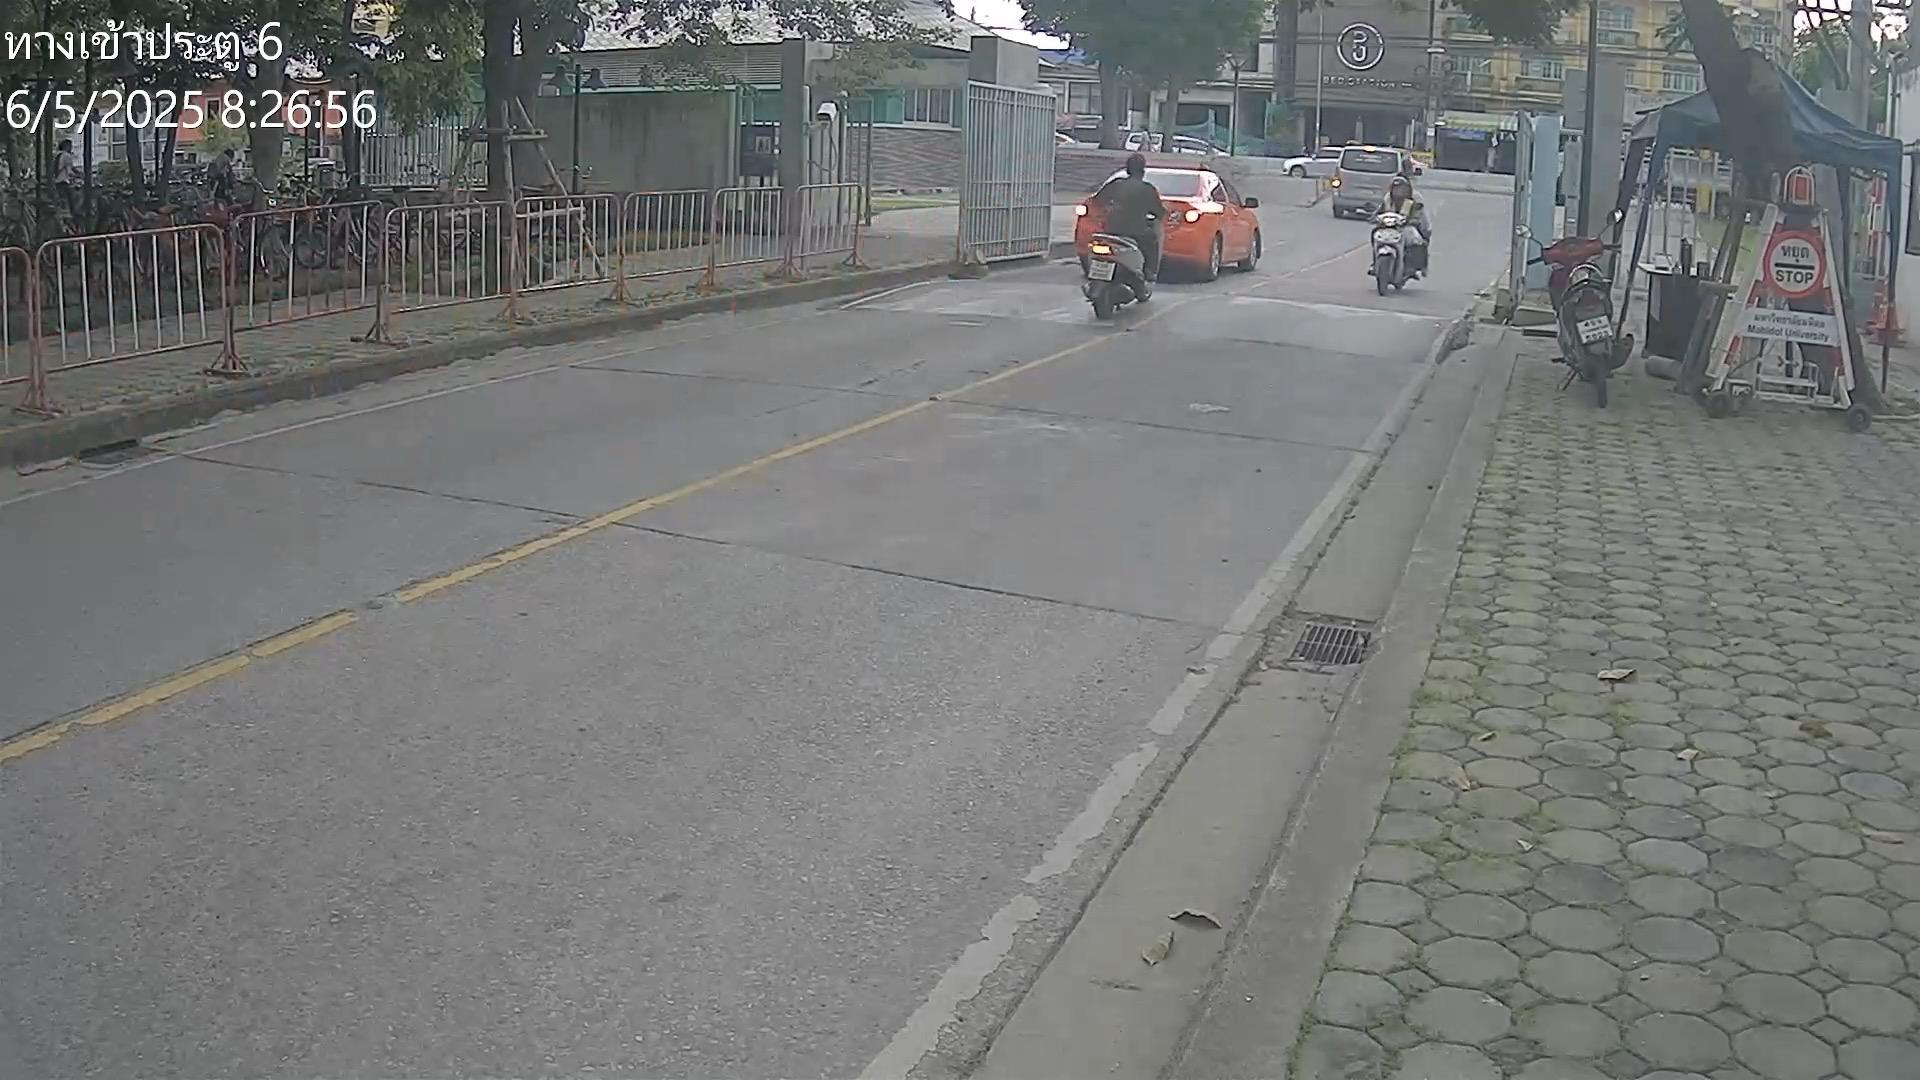With-Helmet: (1390, 177, 1410, 202)
